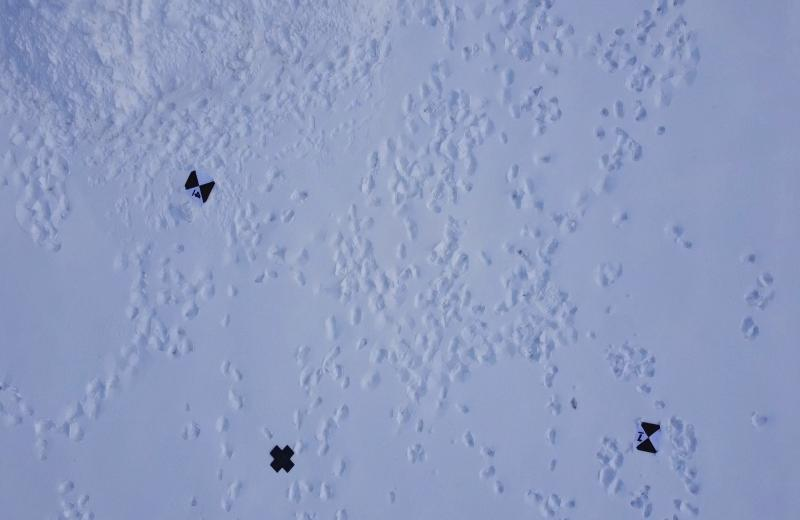Cross: (267, 439, 296, 477)
